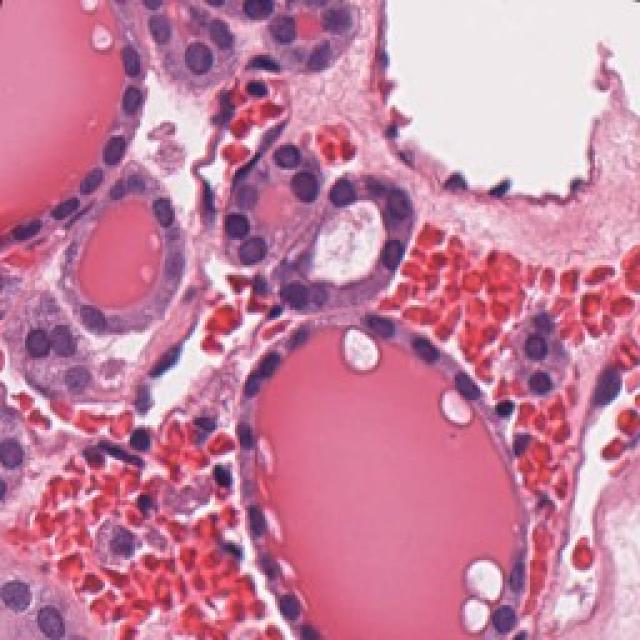normal: (395, 305, 467, 395), (253, 570, 339, 640), (218, 475, 292, 553), (4, 301, 73, 378), (131, 178, 201, 247), (231, 337, 292, 413), (97, 29, 157, 101), (276, 160, 342, 224), (576, 355, 634, 424), (240, 0, 312, 55), (76, 291, 123, 374), (360, 224, 415, 284), (27, 179, 83, 231), (174, 20, 218, 78), (95, 123, 142, 173)
